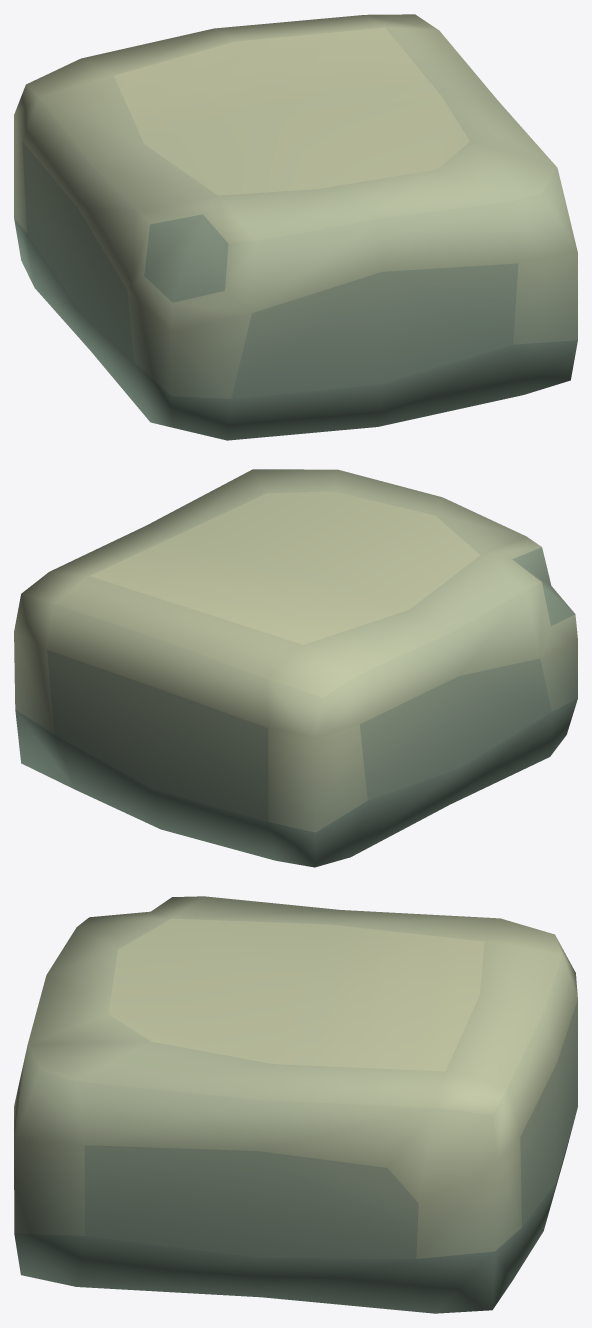
File: block_stone1_1_debris_LOD_group.fbx
3 views of the same model, one above another, from view 1: azimuth 30°, elevation 25°; view 2: azimuth 150°, elevation 25°; view 3: azimuth 270°, elevation 25° (orthographic). The views are drawn at different scales.
Parts seen in each view (by area): view 1: block_stone1_1_debris_LOD0; view 2: block_stone1_1_debris_LOD0; view 3: block_stone1_1_debris_LOD0.
Boxes of the visible parts, left/top/right/bottom form: block_stone1_1_debris_LOD0: left=14, top=14, right=577, bottom=440; block_stone1_1_debris_LOD0: left=14, top=469, right=577, bottom=867; block_stone1_1_debris_LOD0: left=14, top=896, right=577, bottom=1313.
Size of what is drawn, in the model's own units: 61.12 by 30.87 by 64.97.
1 material, 1 textured.
